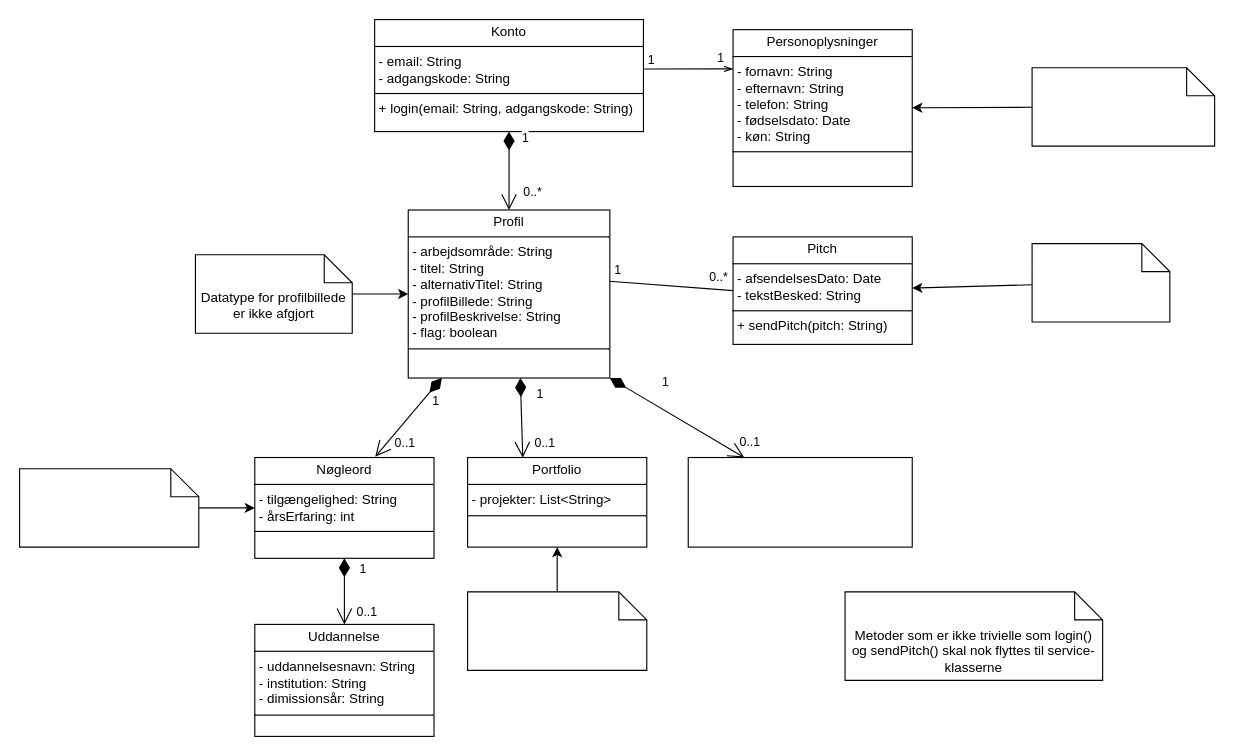
Image size: 1234x756. Some labels were removed from this diagram. The shapes that lost their labels are listed below. From the top down, each one's centre as x and y in pixels, then its label:
At [1123,106]: "Datatype for køn kan måske udskiftes med enum".
At [1100,282]: "afsendelsesDato / modtagelsesDato".
At [108,507]: "tilgængelighed kan måske udskiftes med enum".
At [799,501]: "Målgruppeindstillinger - arbejdsområder: List<String>".
At [556,630]: "Datatype for projekter er ikke afgjort".
